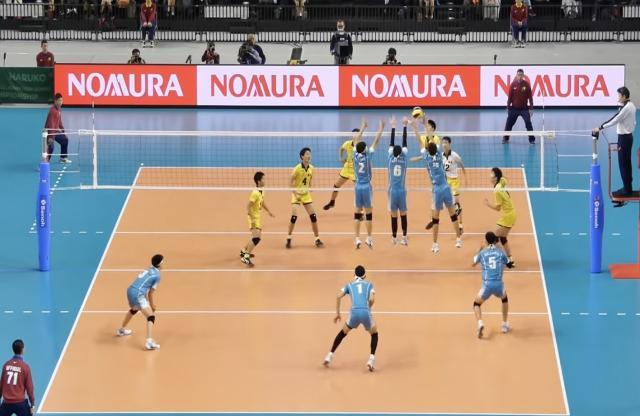block: (409, 119, 472, 256), (349, 118, 385, 250), (381, 113, 414, 250)
